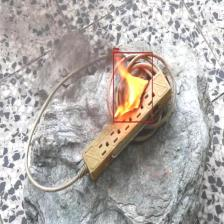fire: (113, 52, 152, 122)
